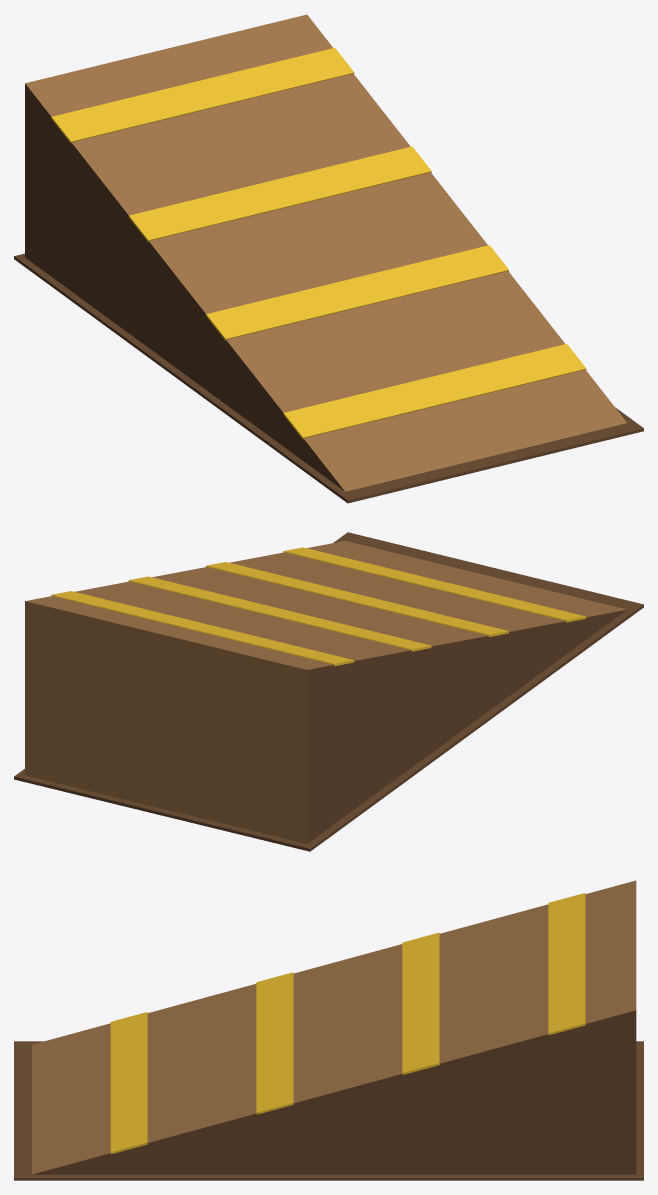
The model's file is ramp.glb.
3 views of the same model, one above another, from view 1: azimuth 30°, elevation 25°; view 2: azimuth 150°, elevation 25°; view 3: azimuth 270°, elevation 25° (orthographic). The views are drawn at different scales.
Parts seen in each view (by area): view 1: ramp; view 2: ramp; view 3: ramp.
Part boxes in pixels (bbox=[...]): ramp: bbox=[14, 14, 643, 503]; ramp: bbox=[14, 532, 643, 851]; ramp: bbox=[14, 880, 643, 1180].
Bounding box in the file's own units: 4.2 × 2.4 × 8.2.
